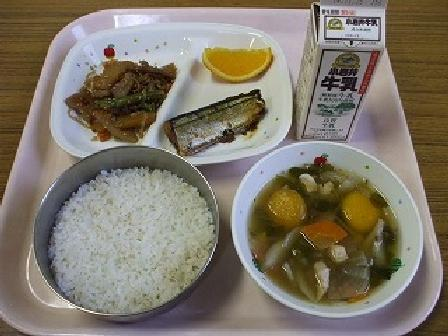Citrus: (192, 30, 277, 88)
Fish: (162, 76, 273, 159)
Milk: (282, 5, 397, 146)
Rice: (37, 150, 212, 313)
cooked food meat with vegetables: (71, 48, 169, 129)
vegetable soup: (242, 145, 415, 297)
